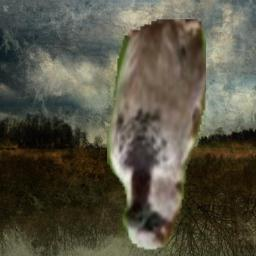Sparrow: (107, 0, 206, 256)
